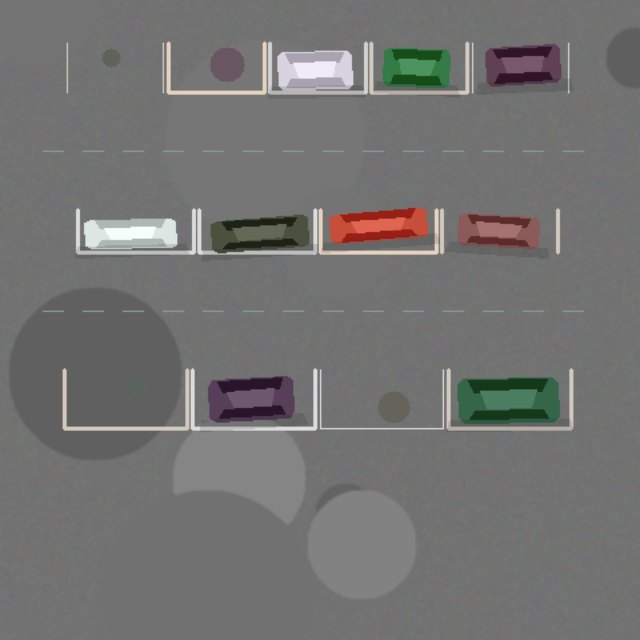space-empty: (64, 369, 187, 428), (320, 369, 443, 428), (67, 43, 163, 92), (168, 43, 264, 92)
space-occupied: (192, 369, 315, 428), (448, 369, 571, 428), (77, 209, 193, 252), (199, 209, 315, 252), (320, 209, 436, 252), (441, 209, 557, 252), (269, 43, 365, 92), (371, 43, 467, 92), (472, 43, 568, 92)
